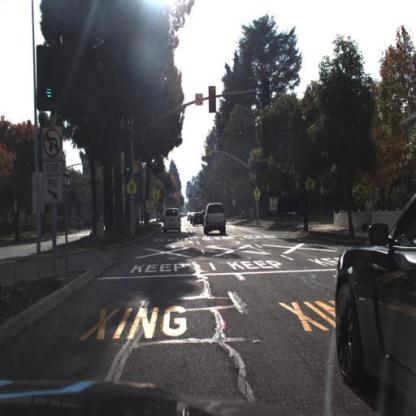car: (327, 157, 415, 413), (202, 199, 228, 234), (162, 206, 183, 235), (193, 209, 207, 225), (189, 214, 196, 225)
pedestrian: (365, 196, 376, 231)
trafficLight: (208, 86, 218, 117), (262, 78, 271, 106)
trafficLight-Green: (124, 144, 134, 176), (209, 85, 219, 115), (126, 153, 135, 181), (264, 79, 273, 106)
